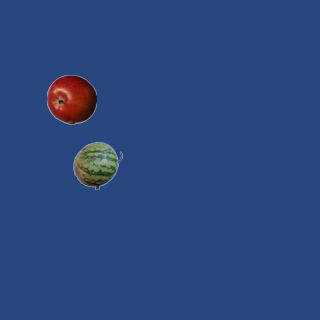Apple Braeburn: (46, 74, 96, 124)
Watermelon: (72, 140, 122, 190)
